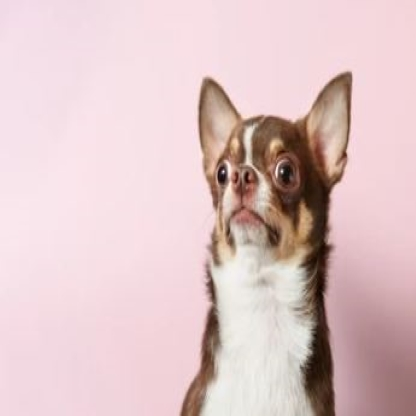chihuahua: (174, 68, 359, 416)
